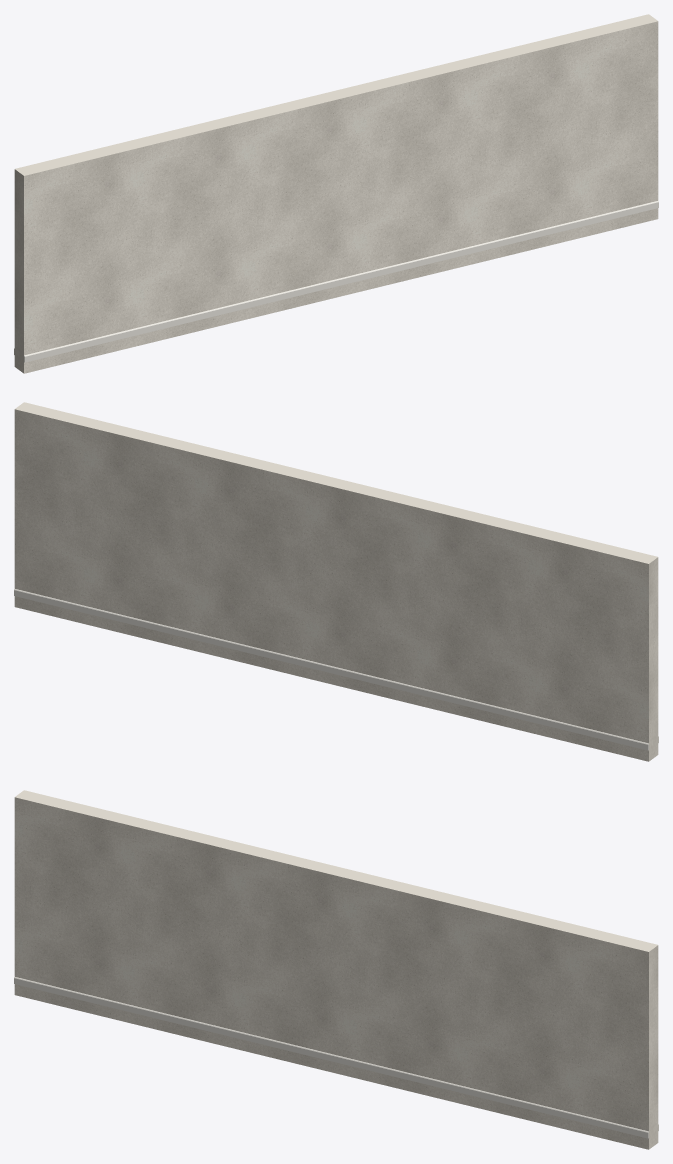
The model's file is party_u.glb.
3 views of the same model, one above another, from view 1: azimuth 30°, elevation 25°; view 2: azimuth 150°, elevation 25°; view 3: azimuth 330°, elevation 25° (orthographic).
Parts seen in each view (by area): view 1: party_u_plaster, party_u_trim; view 2: party_u_plaster, party_u_trim; view 3: party_u_plaster, party_u_trim.
Part boxes in pixels (box(x1,y1,x2,y2)): party_u_plaster: box(14, 14, 658, 373); party_u_trim: box(14, 200, 658, 362); party_u_plaster: box(14, 402, 658, 761); party_u_trim: box(14, 588, 658, 750); party_u_plaster: box(14, 790, 658, 1149); party_u_trim: box(14, 976, 658, 1138).
Size of the model in its own units: 11.4 by 3.4 by 0.332.
2 materials, 1 textured.
